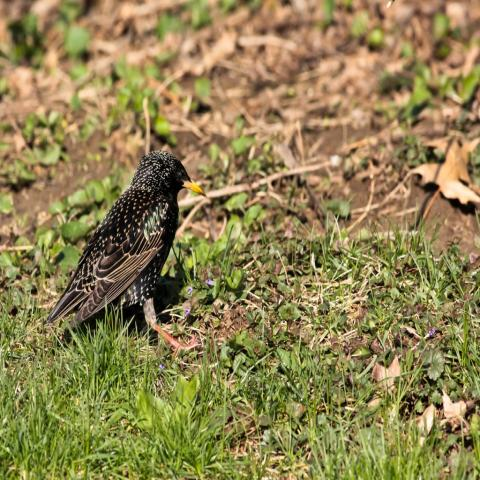bird: (43, 148, 208, 358)
